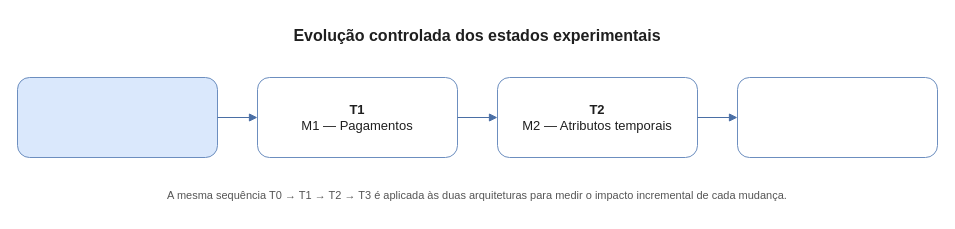
Image size: 955x229. Some labels were removed from this diagram. Each missing label, with the box of its shape:
T0 Baseline: (16, 76, 218, 158)
T3 M3 — Histórico de categoria: (736, 76, 938, 158)
